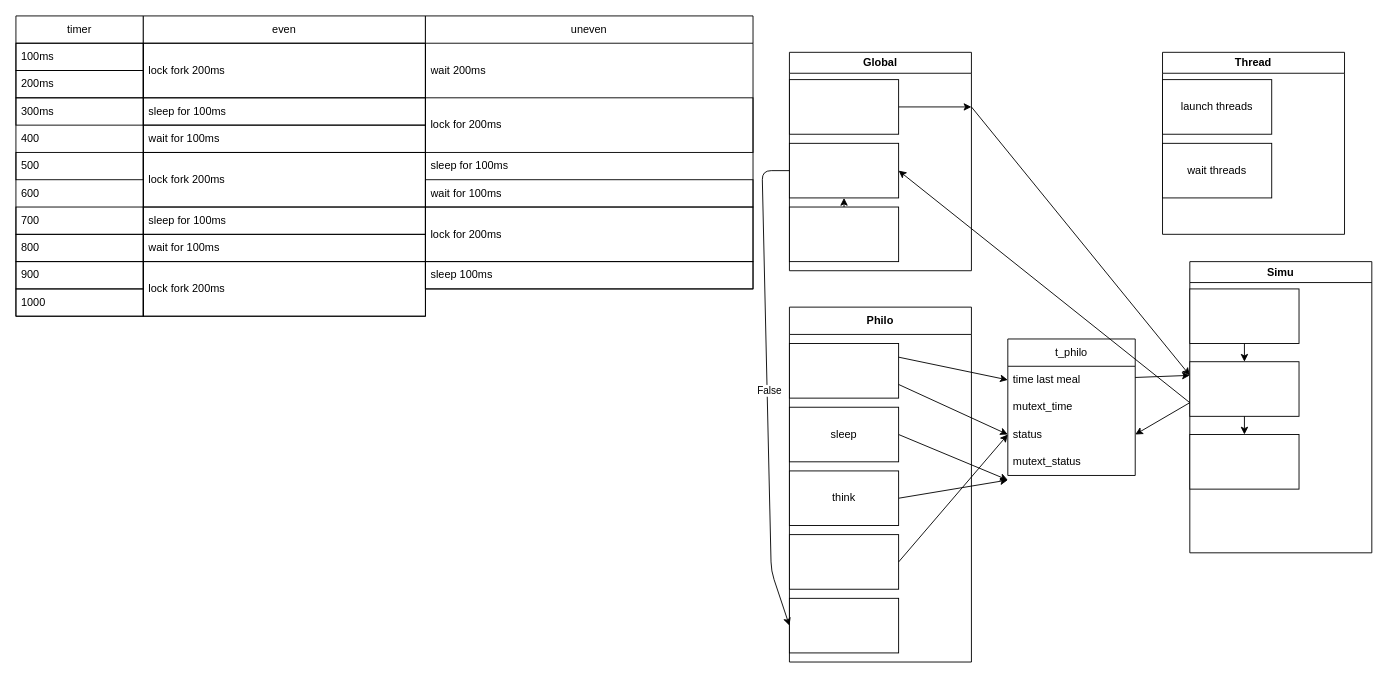
The diagram is 1388 pixels wide and 678 high, and some of its shapes have lost their labels. The centre of each missing label's shape, as x and y in pixels:
check death: (x=1244, y=388)
die: (x=844, y=561)
eat: (x=844, y=370)
end simu: (x=1244, y=461)
is running: (x=844, y=170)
mutex is running: (x=844, y=234)
quit thread: (x=844, y=625)
start simu: (x=1244, y=316)
time to die: (x=844, y=106)
